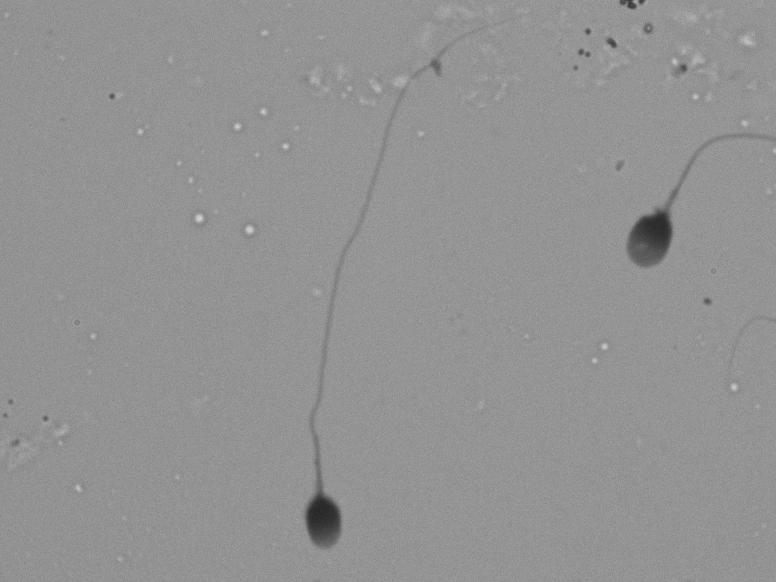Abnormal: (602, 97, 752, 323)
Normal: (253, 30, 491, 565)
